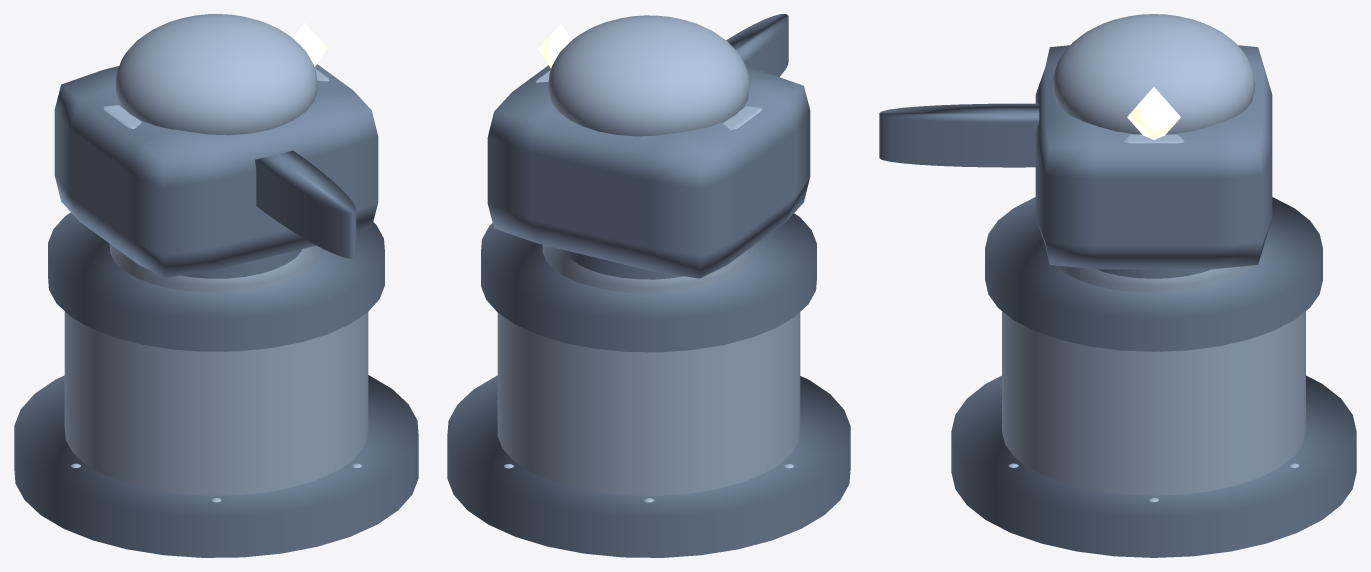
The model's file is sentinel_l4.glb.
The picture shows the model from 3 angles, left to right: view 1: azimuth 30°, elevation 25°; view 2: azimuth 150°, elevation 25°; view 3: azimuth 270°, elevation 25°; orthographic projection.
Visible parts, largest first — view 1: base, armor, footing, baseCollar, helmet, barrel, lowerTrim, shaft, spinCrystal; view 2: armor, base, footing, baseCollar, helmet, lowerTrim, barrel, shaft, spinCrystal; view 3: base, armor, footing, baseCollar, helmet, barrel, lowerTrim, spinCrystal, shaft.
Boxes of the visible parts, box(x1,y1,x2,y2) form: base: box(64, 311, 368, 495); armor: box(54, 64, 378, 277); footing: box(14, 375, 418, 557); baseCollar: box(48, 212, 384, 351); helmet: box(115, 14, 317, 135); barrel: box(255, 150, 356, 258); lowerTrim: box(109, 244, 323, 292); shaft: box(182, 249, 301, 278); spinCrystal: box(293, 22, 327, 66); armor: box(487, 65, 810, 278); base: box(497, 312, 800, 495); footing: box(447, 375, 850, 557); baseCollar: box(481, 213, 816, 352); helmet: box(548, 15, 749, 136); lowerTrim: box(542, 245, 755, 293); barrel: box(726, 14, 788, 76); shaft: box(563, 250, 683, 279); spinCrystal: box(538, 24, 571, 68); base: box(1002, 311, 1305, 495); armor: box(1035, 45, 1272, 269); footing: box(951, 375, 1356, 557); baseCollar: box(985, 197, 1322, 351); helmet: box(1052, 14, 1255, 134); barrel: box(879, 103, 1039, 167); lowerTrim: box(1056, 265, 1251, 292); spinCrystal: box(1127, 87, 1180, 139); shaft: box(1096, 269, 1211, 278).
Bounding box in the file's own units: 1.8 × 2.17 × 2.12.
